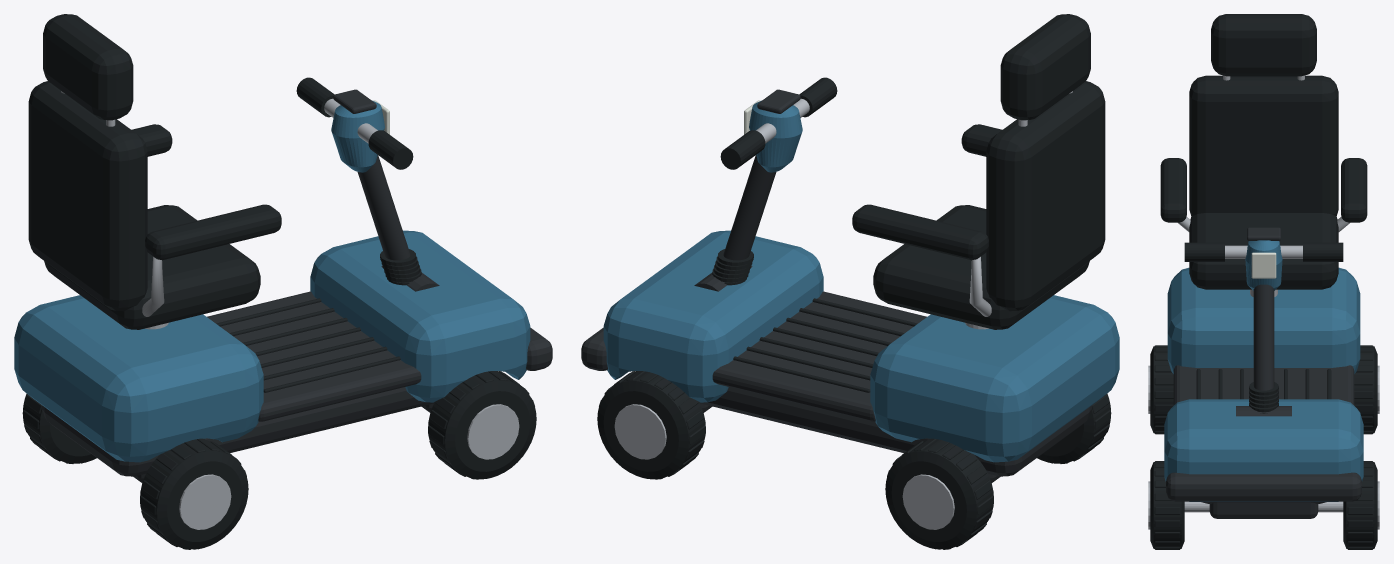
File: A-NEW-20261026-FOUR-WHEEL-MOBILITY-SCOOTER-001_LOD1_R4.glb
The picture shows the model from 3 angles, left to right: view 1: azimuth 30°, elevation 25°; view 2: azimuth 150°, elevation 25°; view 3: azimuth 270°, elevation 25°; orthographic projection. The views are drawn at different scales.
Parts seen in each view (by area): view 1: rear power housing, tall padded back, front fairing, textured low floorboard, padded seat, separate padded headrest, step through chassis, four wheel tire, four wheel tire.002, black armrest, tiller column, teardrop tiller housing (+10 smaller); view 2: rear power housing, tall padded back, front fairing, textured low floorboard, padded seat, separate padded headrest, step through chassis, four wheel tire.001, four wheel tire.003, black armrest.001, tiller column, teardrop tiller housing (+10 smaller); view 3: tall padded back, rear power housing, front fairing, padded seat, separate padded headrest, front dark bumper, textured low floorboard, tiller column, axle chassis support.001, black armrest, black armrest.001, four wheel tire.002 (+11 smaller).
Part boxes in pixels (x1,y1,x2,y2): rear power housing: [14, 295, 263, 462]; tall padded back: [28, 81, 147, 311]; front fairing: [310, 230, 530, 402]; textured low floorboard: [207, 291, 421, 421]; padded seat: [44, 205, 260, 329]; separate padded headrest: [43, 14, 133, 120]; step through chassis: [42, 387, 434, 476]; four wheel tire: [140, 439, 248, 549]; four wheel tire.002: [428, 371, 536, 479]; black armrest: [145, 204, 281, 259]; tiller column: [357, 155, 410, 260]; teardrop tiller housing: [331, 100, 384, 172]; rear power housing: [870, 295, 1119, 462]; tall padded back: [986, 81, 1105, 311]; front fairing: [603, 230, 823, 402]; textured low floorboard: [712, 291, 926, 421]; padded seat: [873, 205, 1089, 329]; separate padded headrest: [1000, 14, 1090, 120]; step through chassis: [699, 387, 1091, 476]; four wheel tire.001: [885, 439, 993, 549]; four wheel tire.003: [597, 371, 705, 479]; black armrest.001: [852, 204, 988, 259]; tiller column: [723, 155, 776, 260]; teardrop tiller housing: [749, 100, 802, 172]; tall padded back: [1189, 75, 1338, 215]; rear power housing: [1167, 267, 1360, 373]; front fairing: [1164, 399, 1363, 501]; padded seat: [1189, 213, 1338, 289]; separate padded headrest: [1211, 14, 1316, 76]; front dark bumper: [1166, 472, 1361, 501]; textured low floorboard: [1173, 365, 1354, 405]; tiller column: [1253, 284, 1274, 390]; axle chassis support.001: [1209, 502, 1318, 518]; black armrest: [1160, 158, 1186, 222]; black armrest.001: [1341, 158, 1367, 222]; four wheel tire.002: [1150, 462, 1184, 548].
Size of the model in its own units: 1.34 by 1.4 by 0.743.
